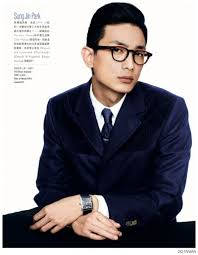asian_male: (82, 7, 153, 92)
